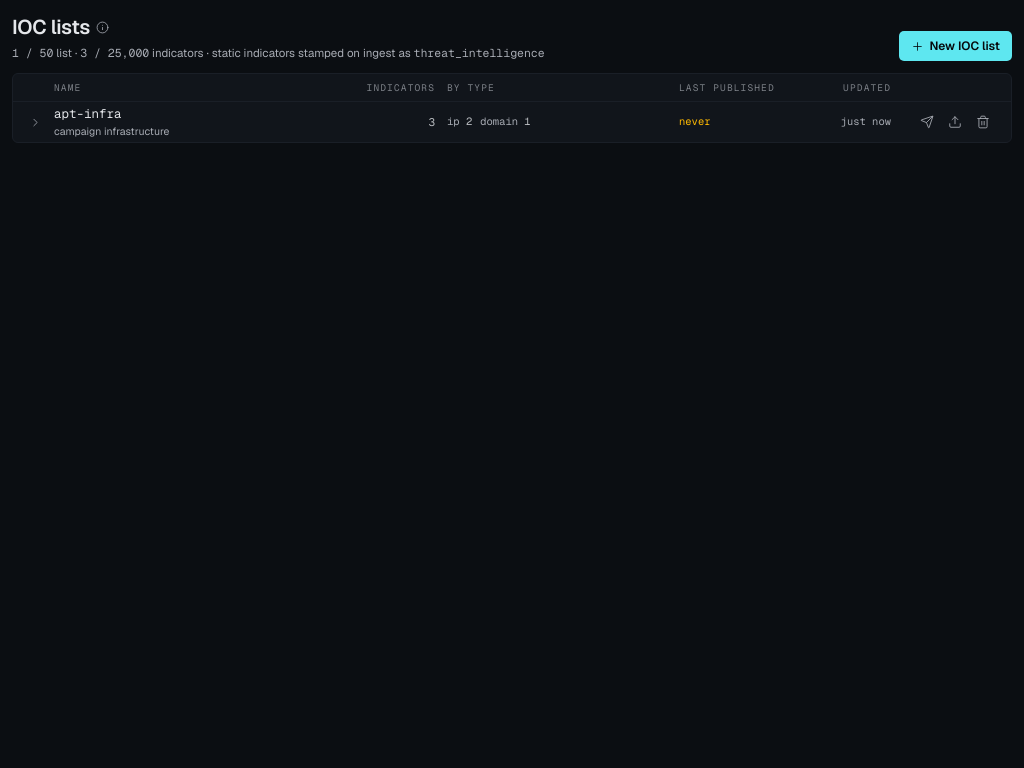
Scenario: IocLists › explains the flow in a popover, not page copy
The image size is (1024, 768).
Expected: the text "apt-infra" is shown, x1=54 y1=105 x2=122 y2=122
Expected: the text "How IOC lists work" is not shown
Click the button named "How IOC lists work" at (102, 27), box x1=96 y1=20 x2=109 y2=34
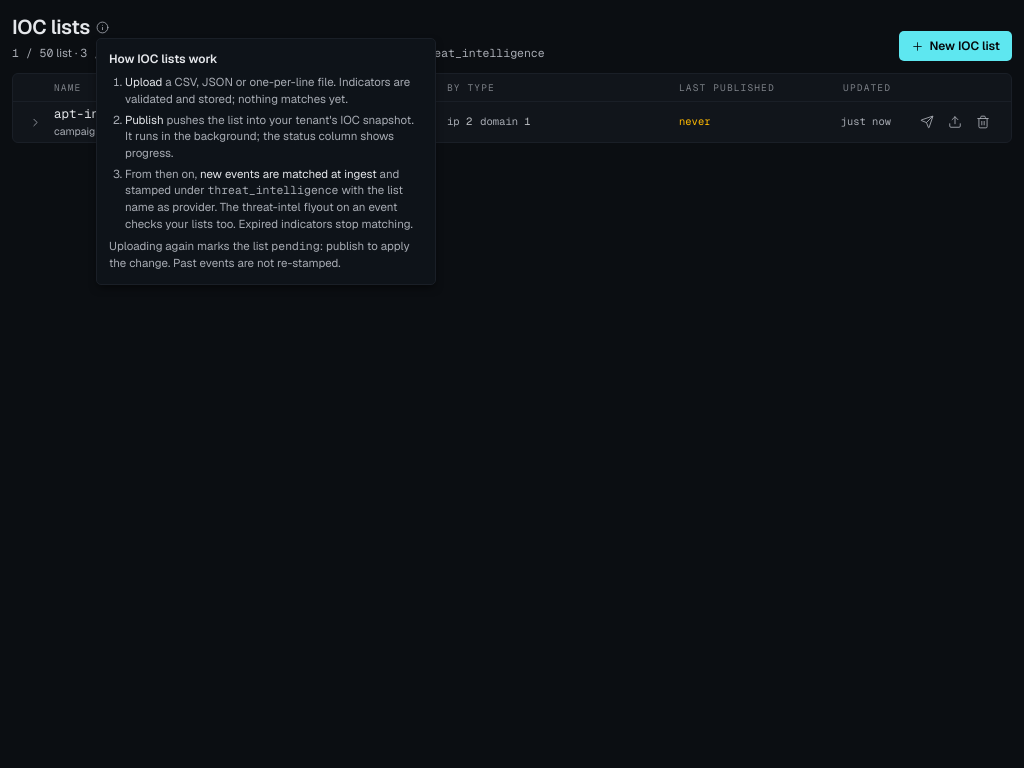
Now the text "How IOC lists work" is shown, box x1=109 y1=51 x2=218 y2=67
